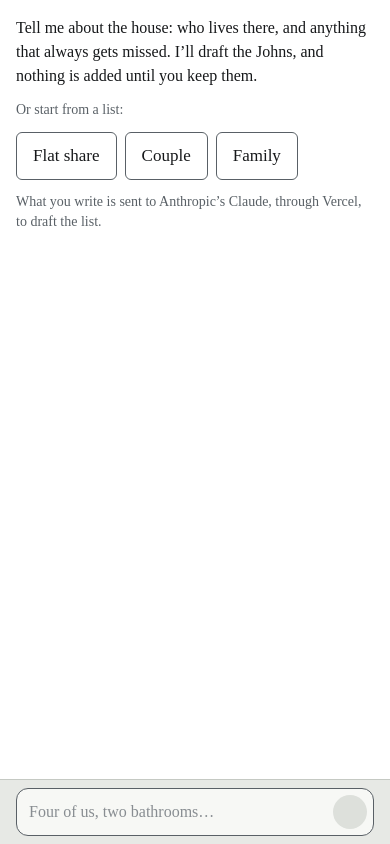
Test: starts from a list without asking anyone, and opens it to see every John
What coordinates should you click on to do the following:
click the button with test id "starter-couple"
I would click on:
 (166, 156)
Its box is [125,132,208,180].
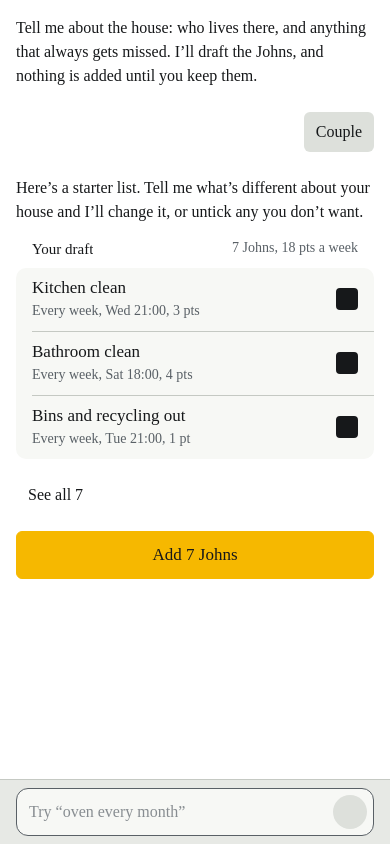
Expected: the text "Here’s a starter list. Tell me what’s different about your house and I’ll change it, or untick any you don’t want." is shown, [16,179,374,220]
Expected: the number of checkboxes is 3, [16,268,374,331]; [16,331,374,395]; [16,395,374,459]
What coordinates should you click on to do the following:
click the button "See all 7"
I would click on:
 (56, 495)
Its box is [16,471,95,519].
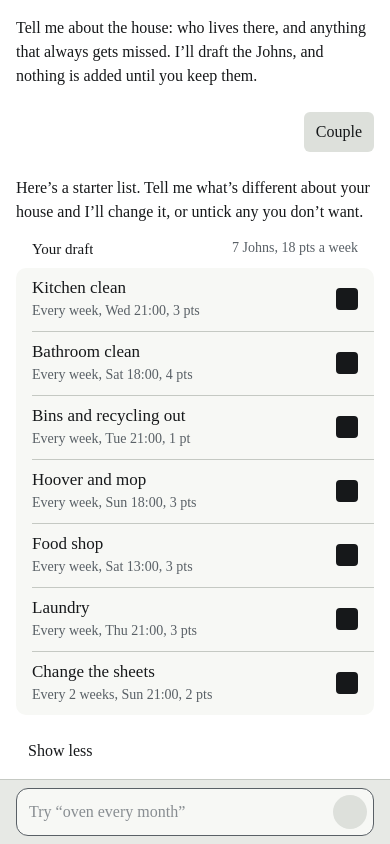
Expected: the number of checkboxes is 7
